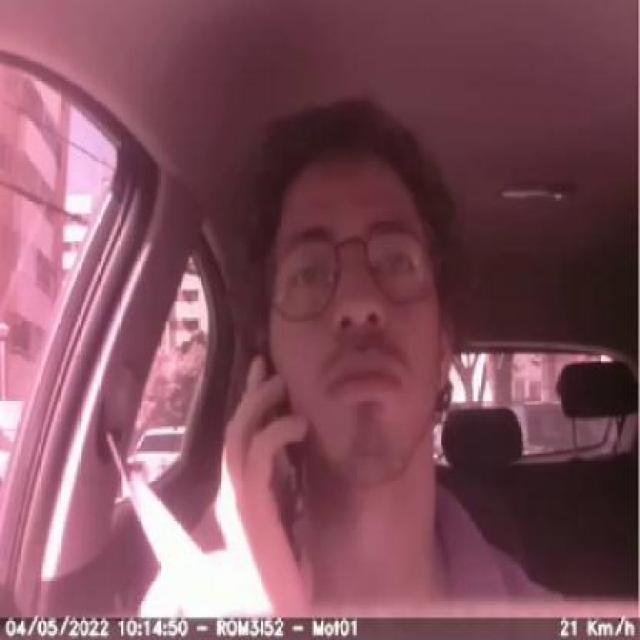using_phone: (179, 284, 363, 558)
